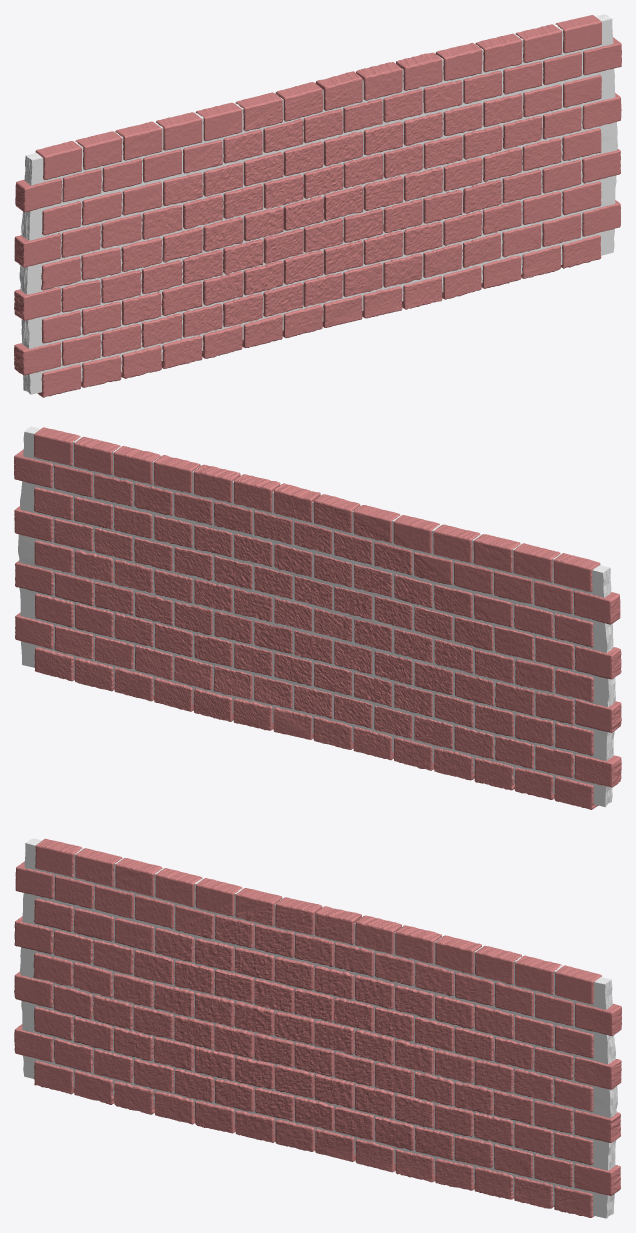
File: BrickWall_Stock.glb
3 views of the same model, one above another, from view 1: azimuth 30°, elevation 25°; view 2: azimuth 150°, elevation 25°; view 3: azimuth 330°, elevation 25° (orthographic).
Visible parts, largest first — view 1: Box 4, Box; view 2: Box 4, Box; view 3: Box 4, Box.
Boxes of the visible parts, bbox=[...] form: Box 4: bbox=[14, 15, 621, 397]; Box: bbox=[19, 14, 617, 394]; Box 4: bbox=[14, 427, 621, 809]; Box: bbox=[18, 426, 615, 807]; Box 4: bbox=[14, 838, 621, 1217]; Box: bbox=[20, 838, 617, 1218].
Size of the model in its own units: 2.72 by 1.06 by 0.0909.
